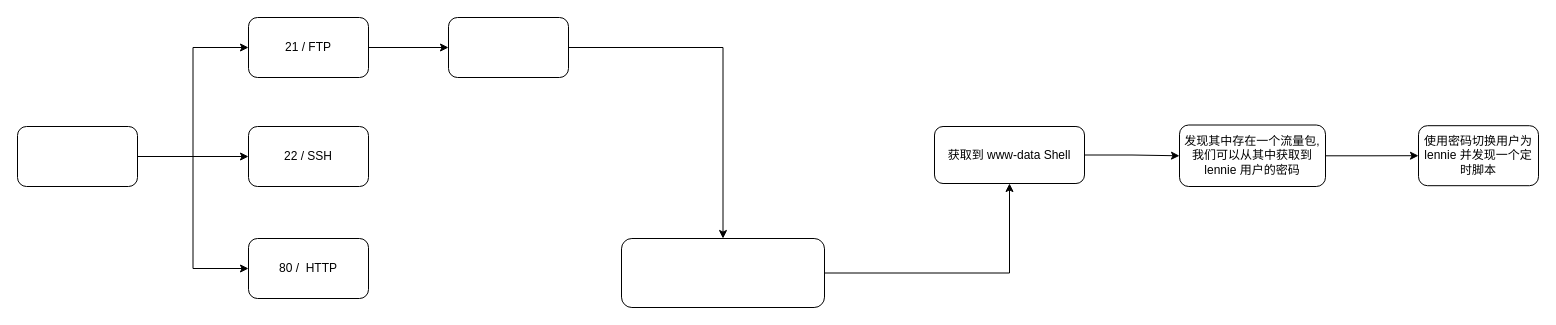
Image size: 1556x325. Some labels were removed from this diagram. The centre of each missing label's shape, as x and y in pixels:
"存在匿名访问" goes at (508,47).
"端口扫描" goes at (77,156).
"进行目录扫描, 可以发现 file 文件夹和 FTP 一样, 我们可以借助 FTP 上传一个 WEBSHELL" goes at (722,273).
